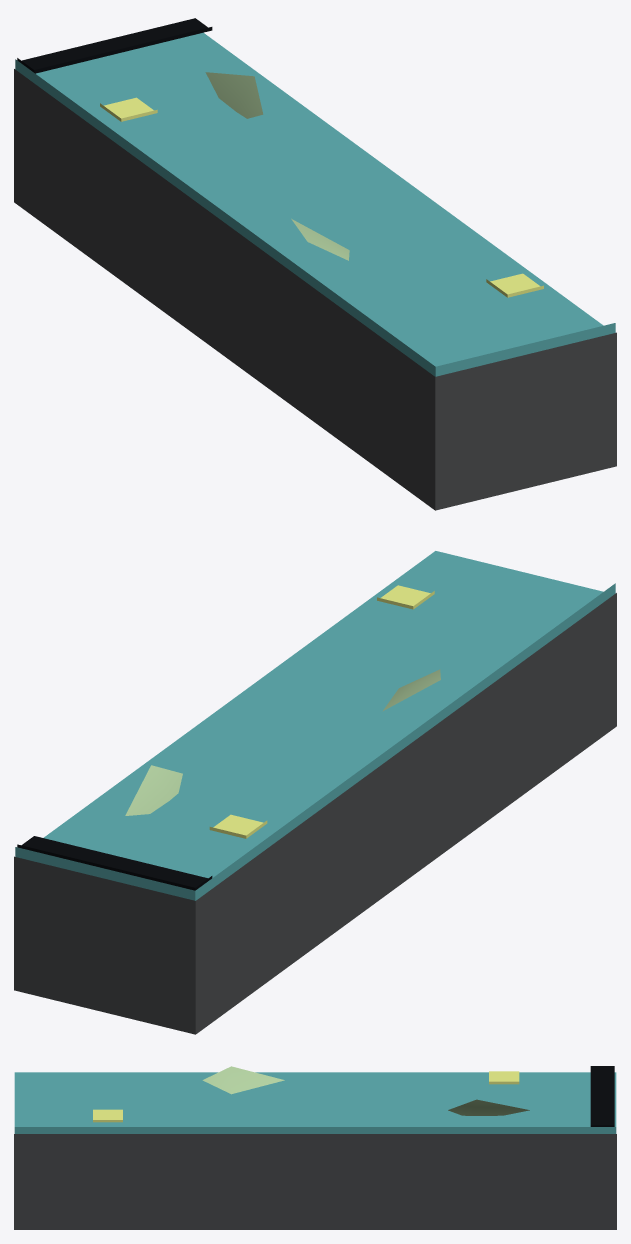
Rendered from tt_climb_mat_300_040x16.glb.
3 renders of one model, top to bottom at view 1: azimuth 30°, elevation 25°; view 2: azimuth 150°, elevation 25°; view 3: azimuth 270°, elevation 25°, orthographic. The views are drawn at different scales.
Parts seen in each view (by area): view 1: Mat_Core, Mat_Cover, Velcro_Seam_Flap, Leaf_Print, Ball_Dots; view 2: Mat_Core, Mat_Cover, Velcro_Seam_Flap, Leaf_Print, Ball_Dots; view 3: Mat_Core, Mat_Cover, Leaf_Print, Velcro_Seam_Flap, Ball_Dots.
Boxes of the visible parts, left/top/right/bottom form: Mat_Core: left=14, top=69, right=616, bottom=510; Mat_Cover: left=15, top=32, right=615, bottom=376; Velcro_Seam_Flap: left=17, top=18, right=212, bottom=73; Leaf_Print: left=205, top=72, right=349, bottom=260; Ball_Dots: left=100, top=97, right=543, bottom=297; Mat_Core: left=14, top=593, right=616, bottom=1034; Mat_Cover: left=15, top=551, right=615, bottom=900; Velcro_Seam_Flap: left=17, top=836, right=212, bottom=890; Leaf_Print: left=125, top=669, right=440, bottom=815; Ball_Dots: left=209, top=585, right=434, bottom=838; Mat_Core: left=14, top=1134, right=616, bottom=1229; Mat_Cover: left=14, top=1072, right=616, bottom=1133; Leaf_Print: left=202, top=1066, right=529, bottom=1115; Velcro_Seam_Flap: left=590, top=1066, right=614, bottom=1126; Ball_Dots: left=93, top=1071, right=519, bottom=1122.
Size of what is drawn, in the model's own units: 0.398 by 0.3412 by 1.6.
5 materials, 1 textured.
